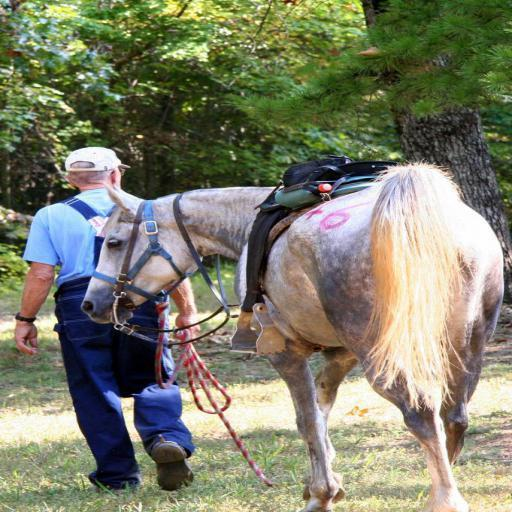horse: (75, 160, 505, 512)
